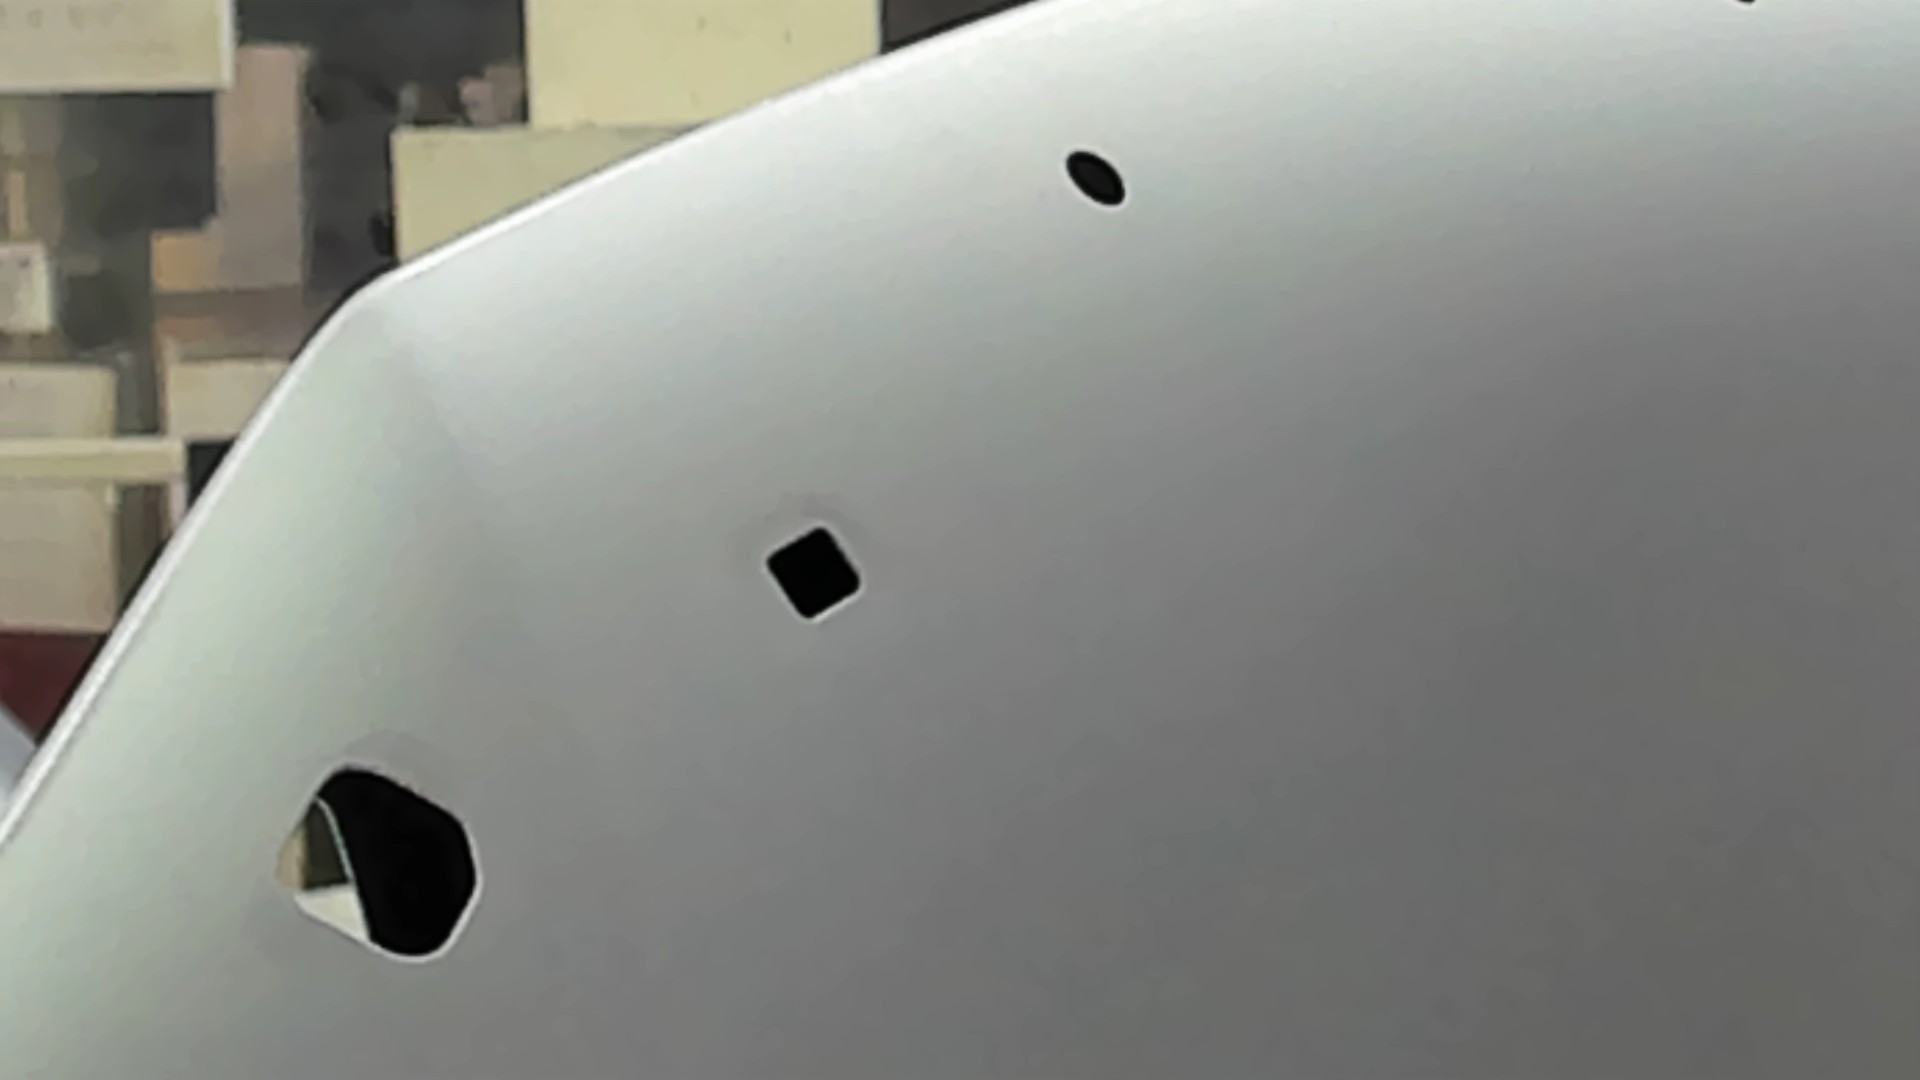capo: (869, 216, 1920, 1080)
chico: (1063, 145, 1133, 211)
grande: (269, 756, 487, 968)
mediano: (760, 517, 869, 632)
